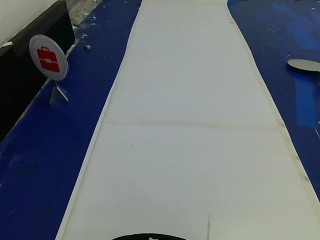company: (27, 32, 70, 81)
